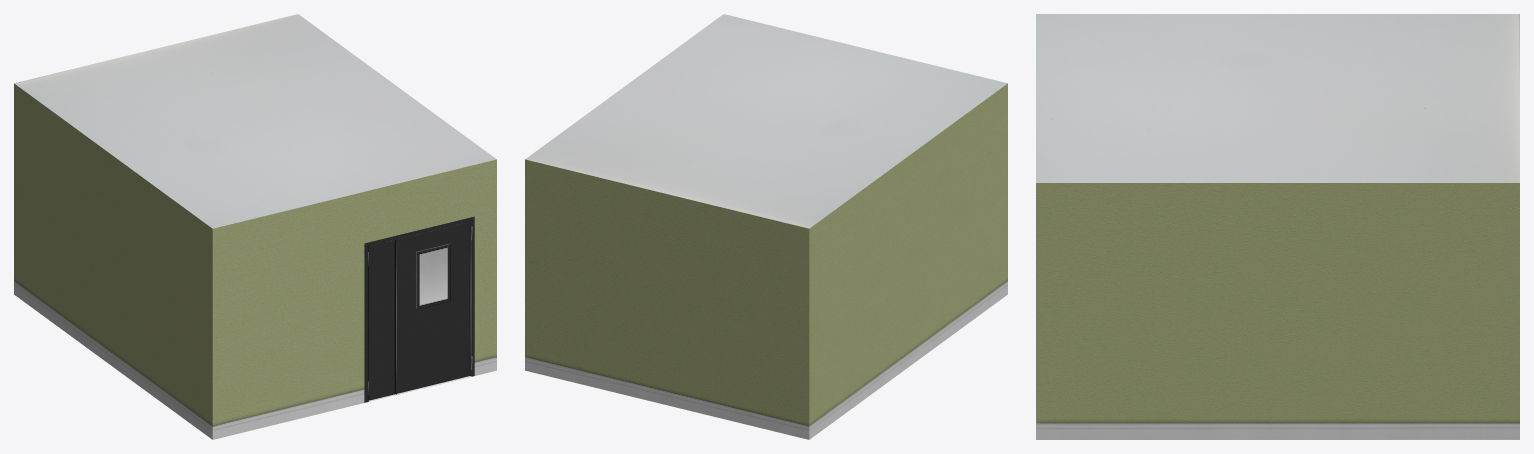
Rendered from valter-ik-lab.dae.
3 renders of one model, left to right at view 1: azimuth 30°, elevation 25°; view 2: azimuth 150°, elevation 25°; view 3: azimuth 270°, elevation 25°, orthographic. The views are drawn at different scales.
Parts seen in each view (by area): view 1: ceiling, rearWall, leftWall, rearWallDoorBigPart, rearWallDoorSmallPart; view 2: frontWall, ceiling, leftWall; view 3: rightWall, ceiling.
Boxes of the visible parts, left/top/right/bottom form: ceiling: left=14, top=14, right=496, bottom=228; rearWall: left=212, top=159, right=496, bottom=439; leftWall: left=14, top=83, right=212, bottom=439; rearWallDoorBigPart: left=397, top=221, right=471, bottom=393; rearWallDoorSmallPart: left=368, top=239, right=396, bottom=400; frontWall: left=525, top=159, right=809, bottom=439; ceiling: left=525, top=14, right=1007, bottom=228; leftWall: left=809, top=83, right=1007, bottom=439; rightWall: left=1036, top=183, right=1519, bottom=439; ceiling: left=1036, top=14, right=1519, bottom=182.
Bounding box in the file's own units: 56.57 × 68.51 × 40.17.
Materials: 18 (14 with a texture image).
